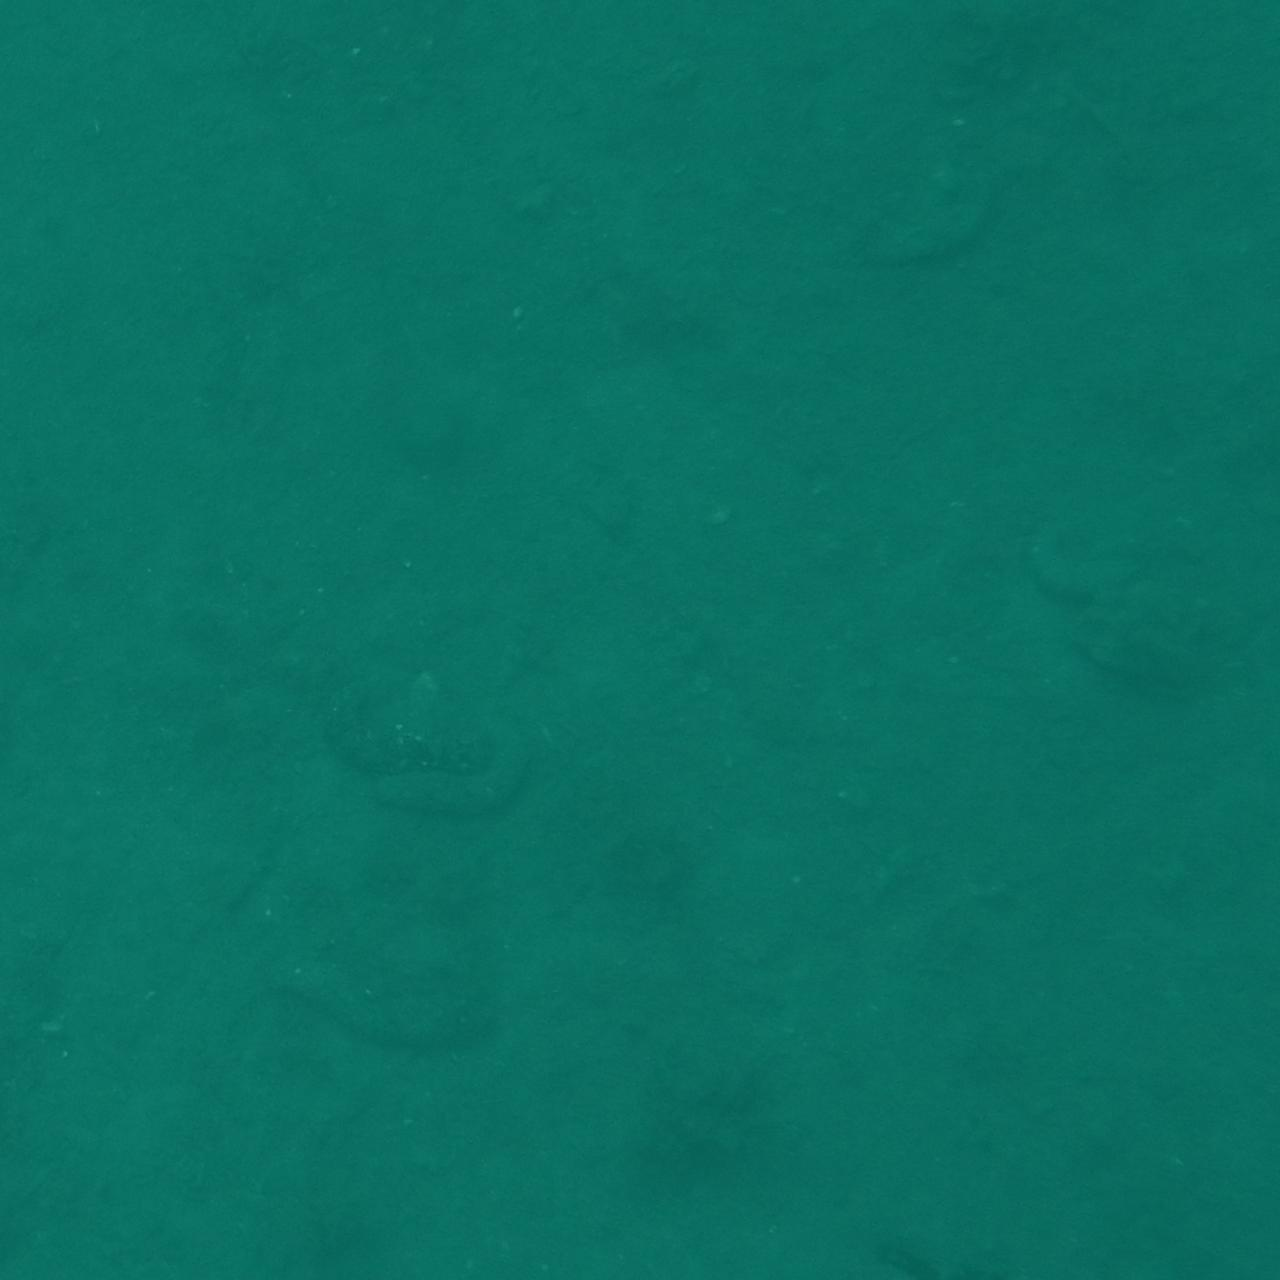Holothuria tubulosa: (898, 1109, 1115, 1280), (314, 686, 554, 832), (248, 945, 498, 1077), (1073, 0, 1269, 149), (0, 533, 105, 765), (829, 169, 1032, 287), (63, 1183, 285, 1280), (584, 1191, 824, 1280), (217, 1153, 377, 1280), (1157, 925, 1280, 1071), (0, 318, 95, 472), (1143, 0, 1280, 94), (1122, 0, 1280, 79), (0, 0, 96, 123), (1148, 1198, 1280, 1280), (1131, 0, 1280, 68), (0, 0, 131, 70), (0, 0, 118, 70), (0, 1169, 59, 1280), (0, 1165, 56, 1280)
